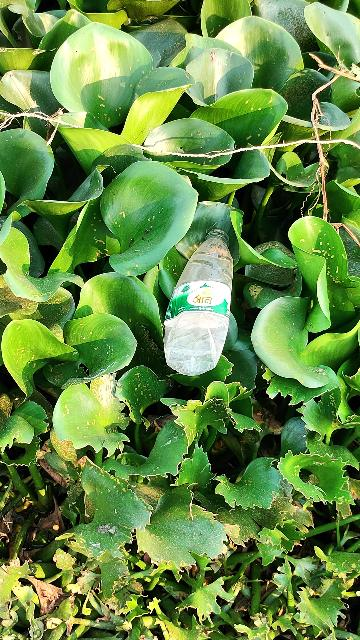bottle: (157, 229, 256, 380)
